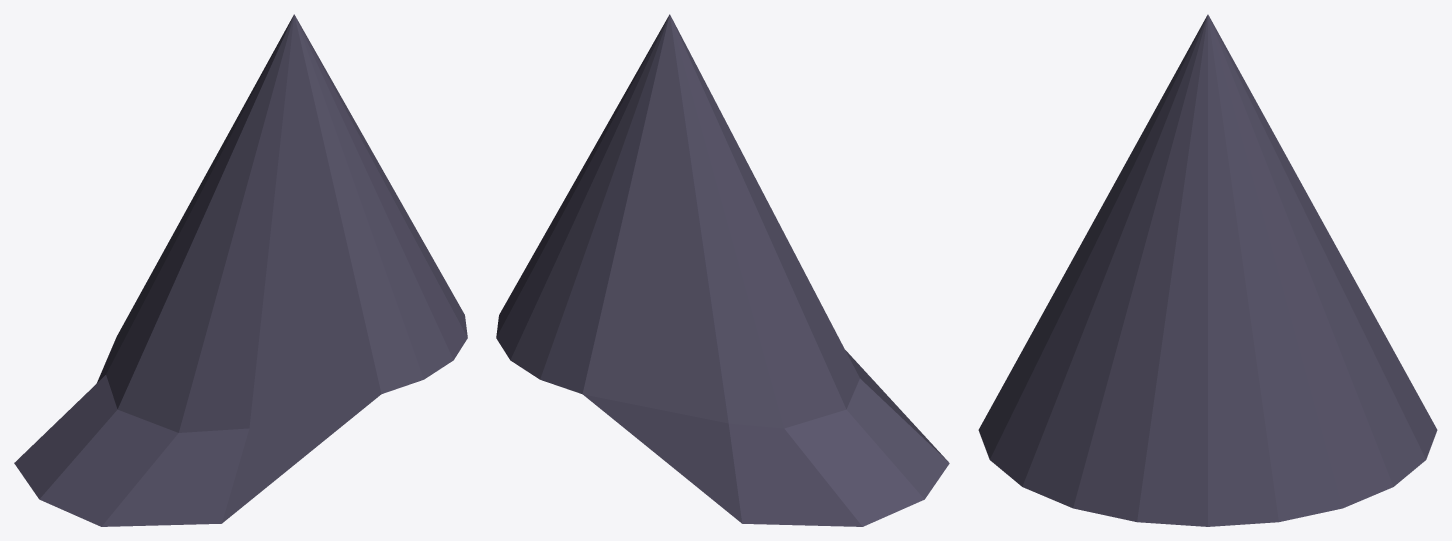
Rendered from MageBody.fbx.
The picture shows the model from 3 angles, left to right: view 1: azimuth 30°, elevation 25°; view 2: azimuth 150°, elevation 25°; view 3: azimuth 270°, elevation 25°; orthographic projection. The views are drawn at different scales.
Visible parts, largest first — view 1: polySurface281; view 2: polySurface281; view 3: polySurface281.
Boxes of the visible parts, bbox=[...] form: polySurface281: bbox=[14, 14, 467, 526]; polySurface281: bbox=[496, 14, 949, 526]; polySurface281: bbox=[978, 14, 1437, 526].
Size of the model in its own units: 216 by 216 by 161.
